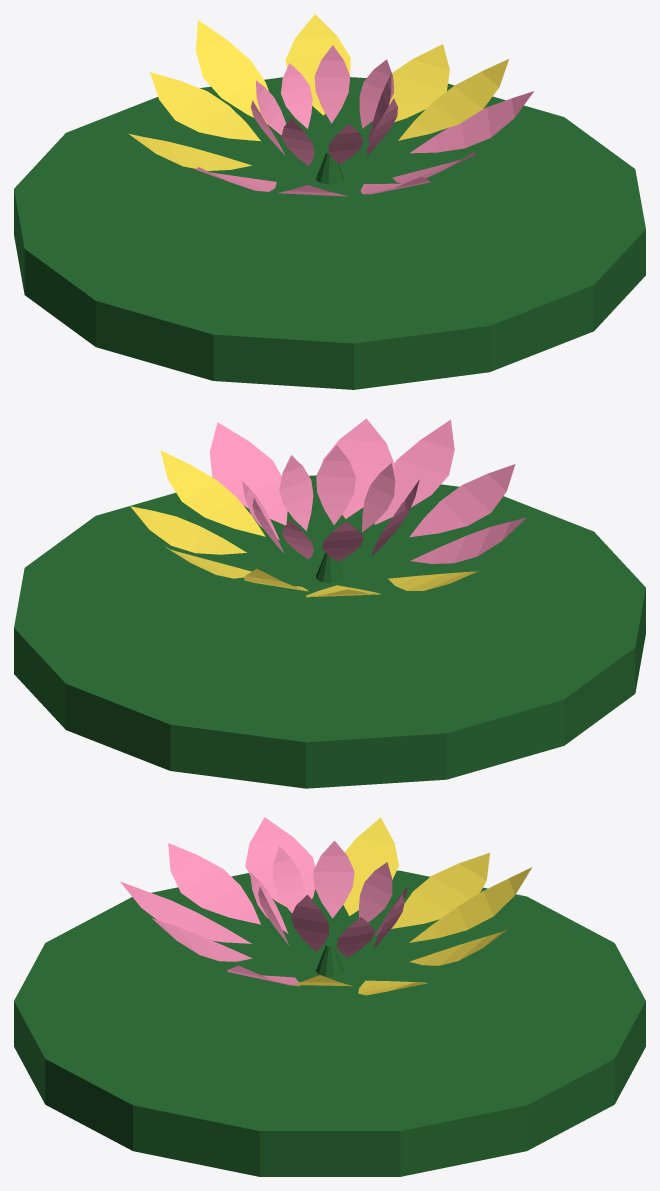
File: lily_pad_flower.obj
The picture shows the model from 3 angles, top to bottom: view 1: azimuth 30°, elevation 25°; view 2: azimuth 150°, elevation 25°; view 3: azimuth 270°, elevation 25°; orthographic projection.
Parts seen in each view (by area): view 1: LilyPadFlower; view 2: LilyPadFlower; view 3: LilyPadFlower.
Part boxes in pixels (bbox=[...]): LilyPadFlower: bbox=[14, 14, 645, 389]; LilyPadFlower: bbox=[14, 418, 645, 788]; LilyPadFlower: bbox=[14, 817, 645, 1176].
Size of the model in its own units: 1.95 by 0.6162 by 2.
